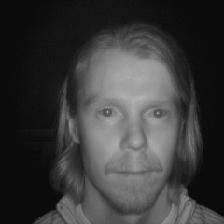normal: (53, 32, 202, 208)
